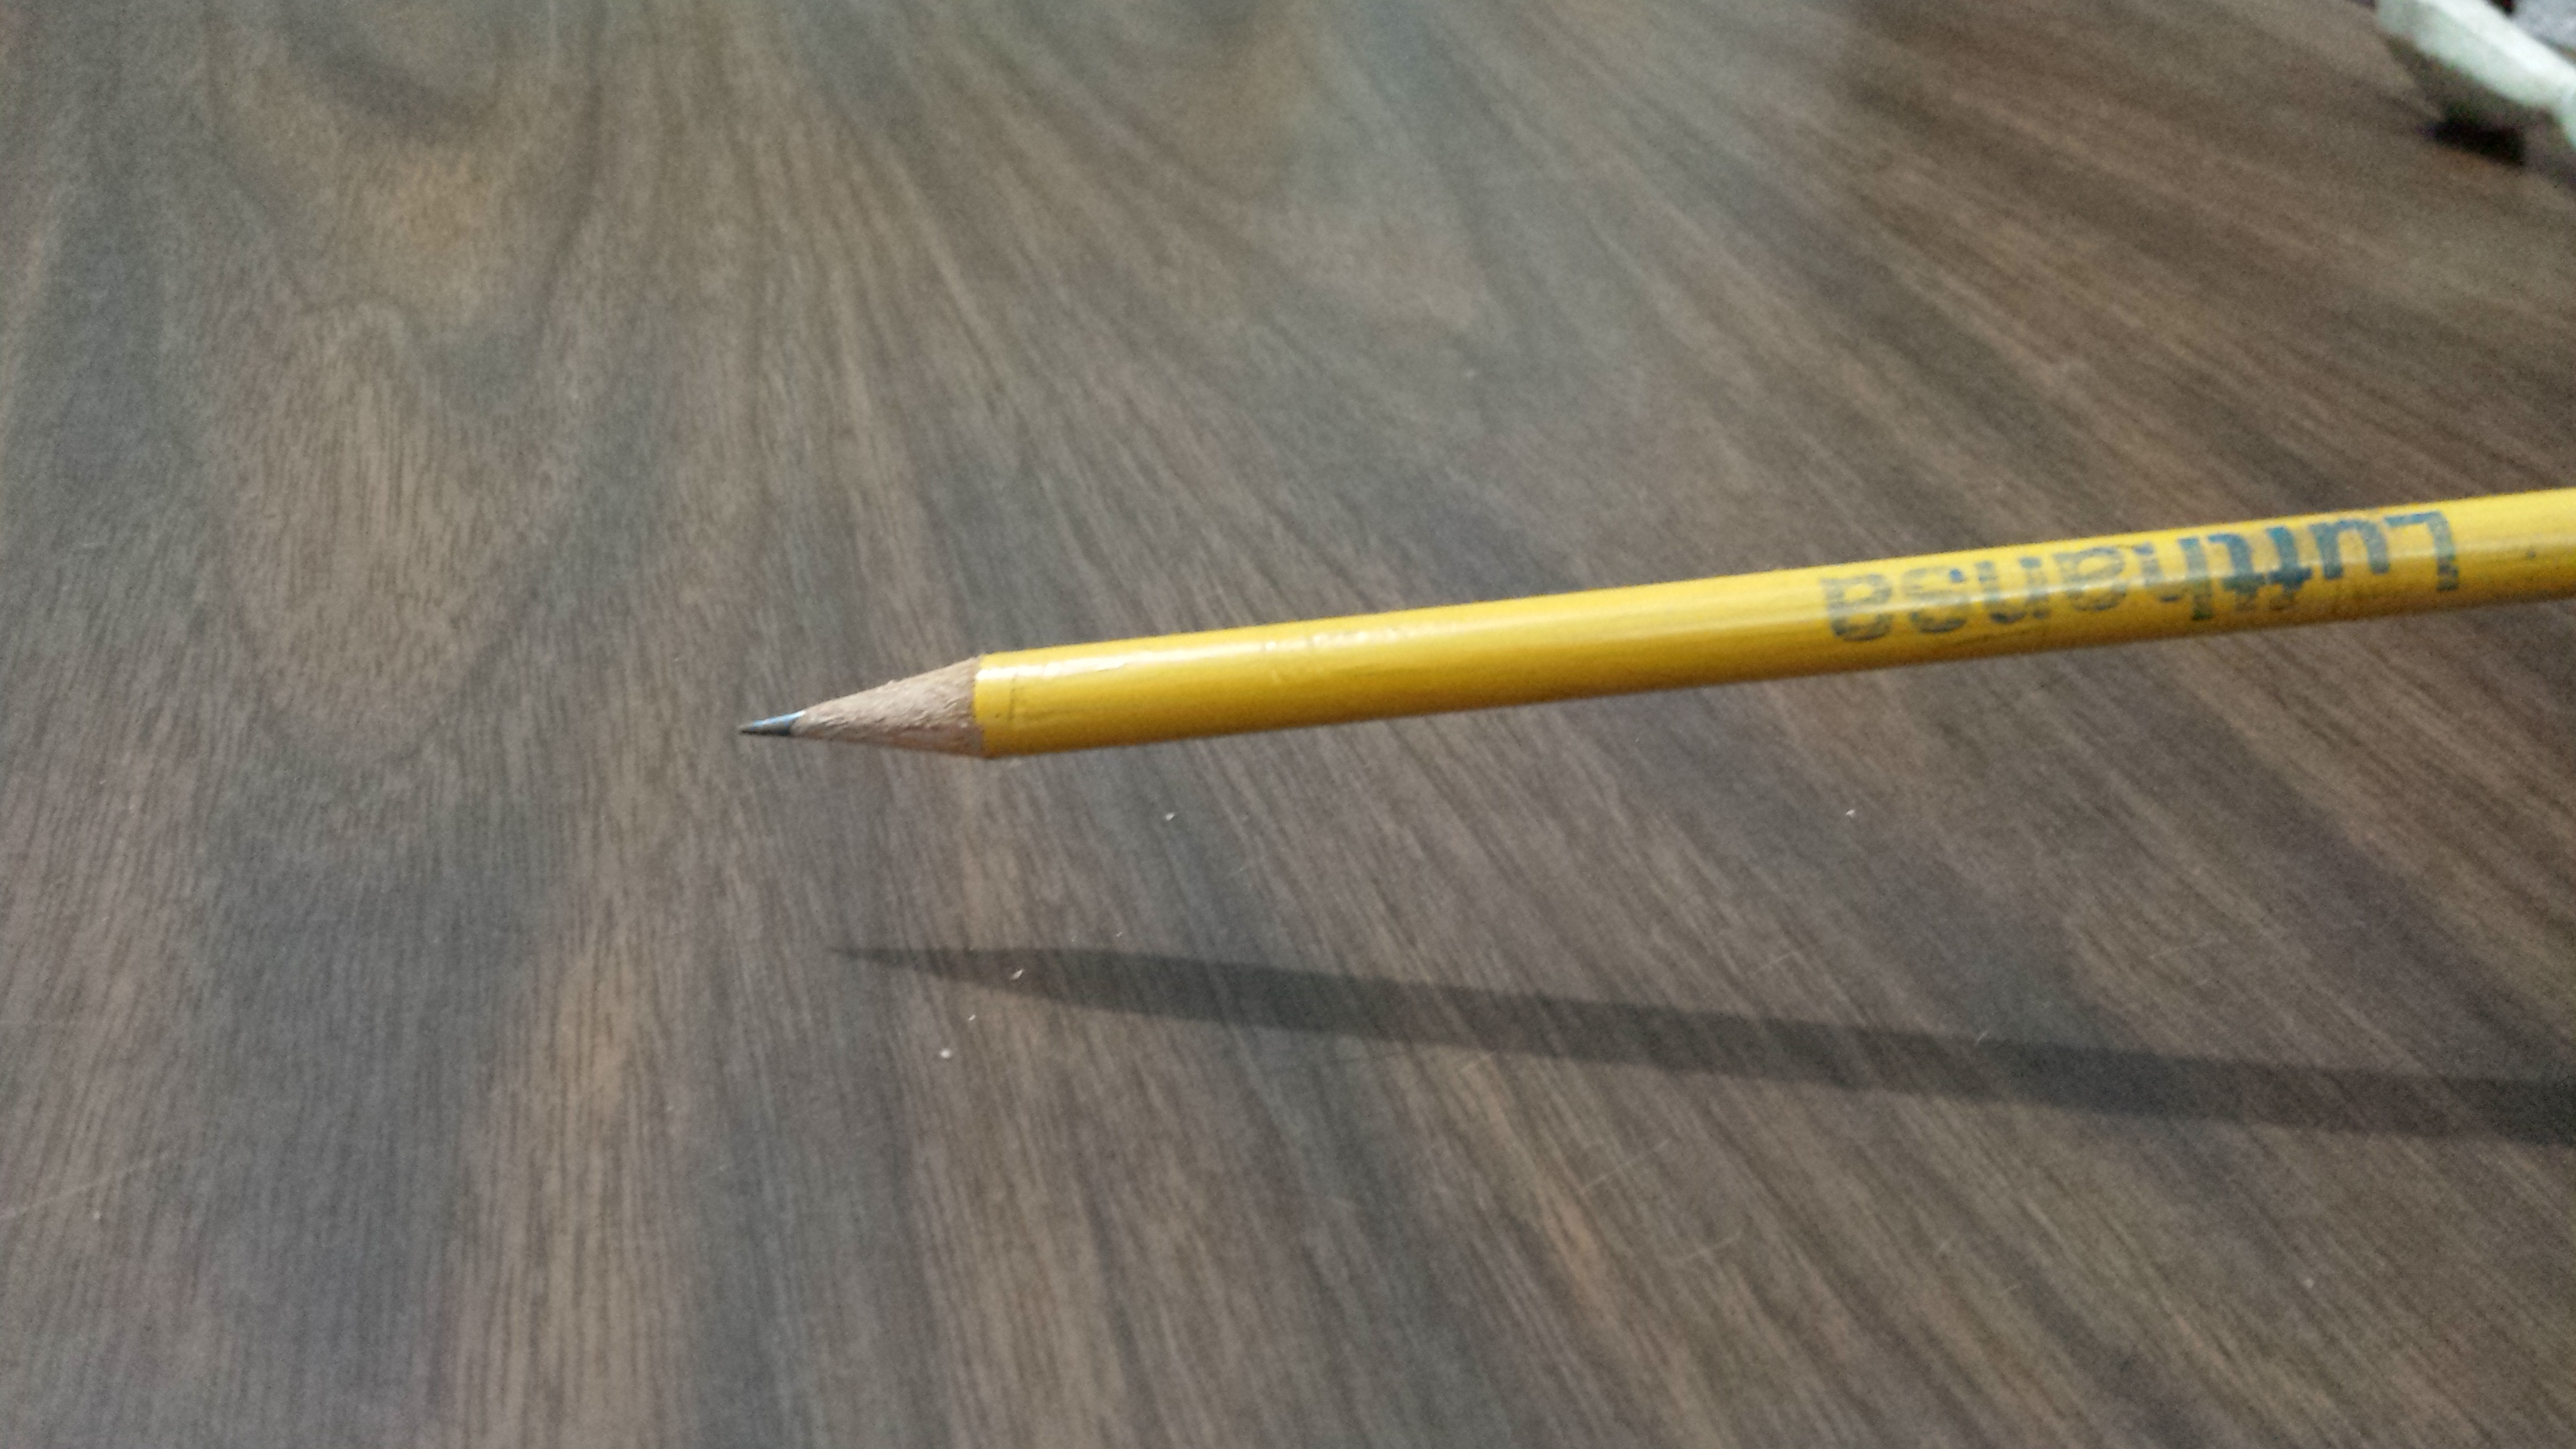pen_tip: (674, 586, 1058, 837)
